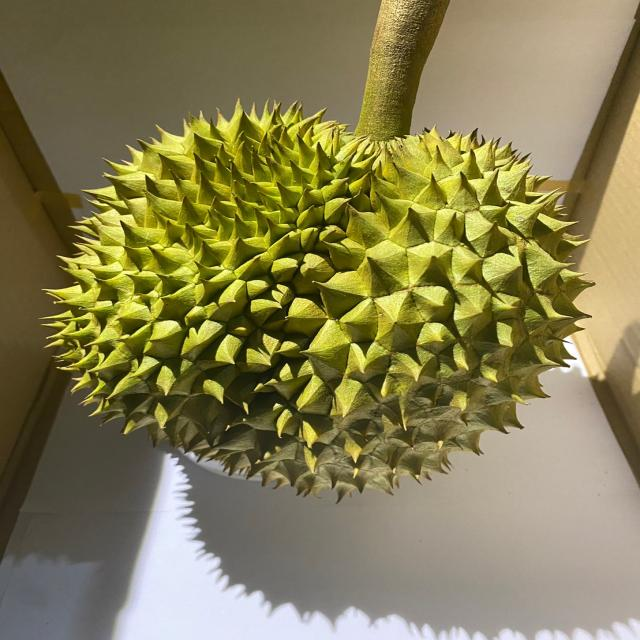immature: (45, 95, 592, 504)
